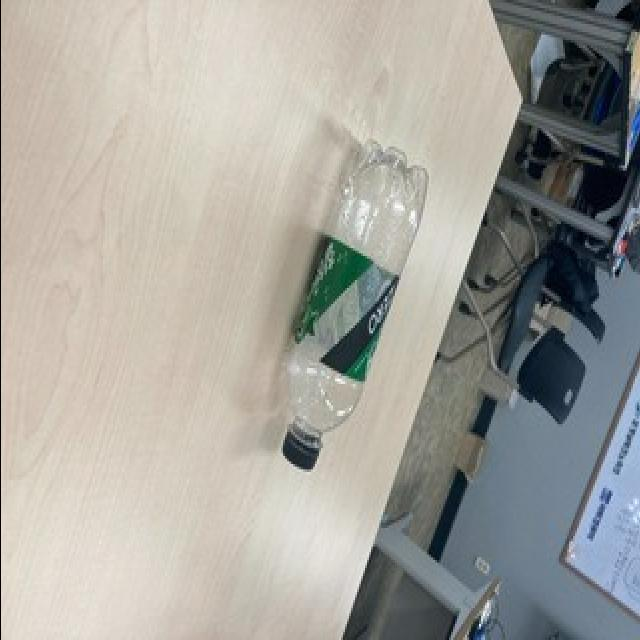寶特瓶: (263, 134, 439, 477)
